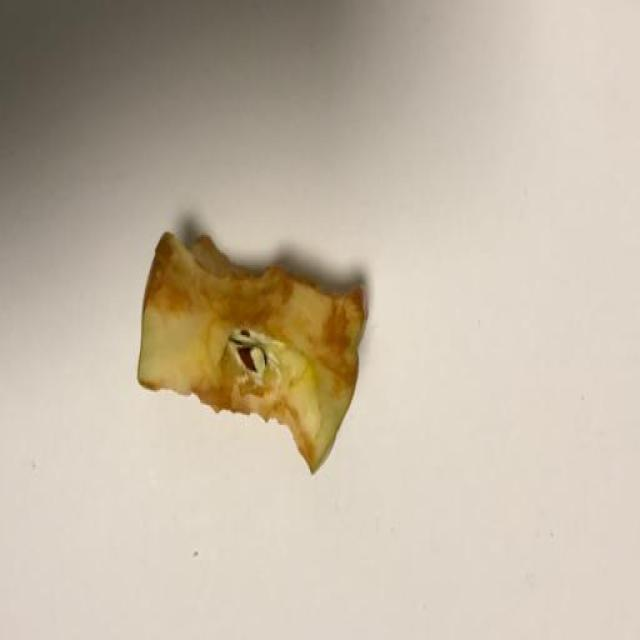Random Trash: (138, 225, 369, 473)
